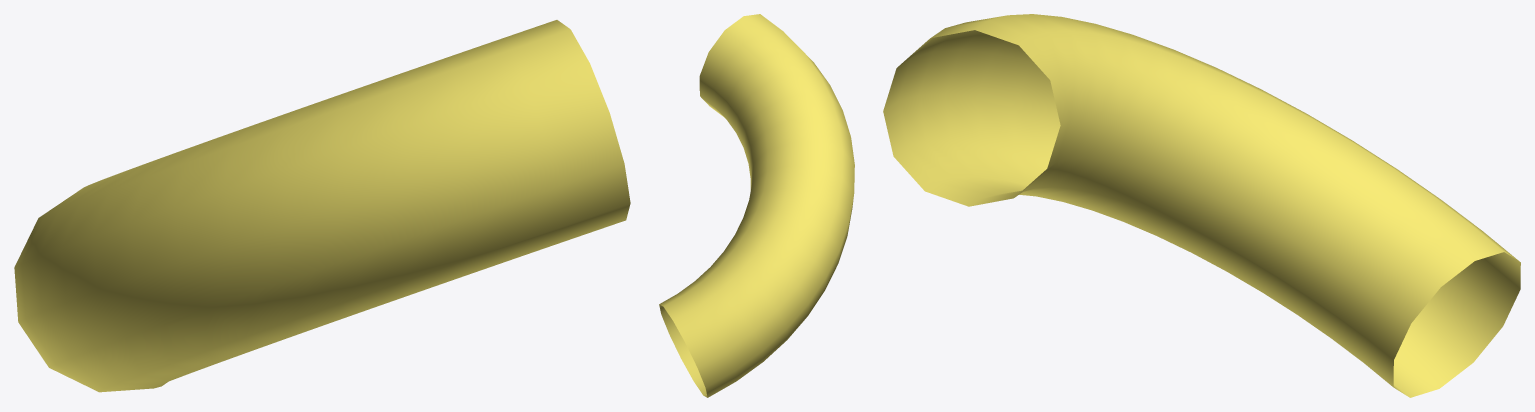
3 renders of one model, left to right at view 1: azimuth 30°, elevation 25°; view 2: azimuth 150°, elevation 25°; view 3: azimuth 270°, elevation 25°, orthographic. The views are drawn at different scales.
Parts seen in each view (by area): view 1: Torus.002; view 2: Torus.002; view 3: Torus.002.
Boxes of the visible parts, x1,y1,x2,y2 form: Torus.002: (14, 20, 630, 392); Torus.002: (659, 14, 854, 397); Torus.002: (883, 14, 1520, 397).
Bounding box in the file's own units: 0.9074 × 1.17 × 1.54.
